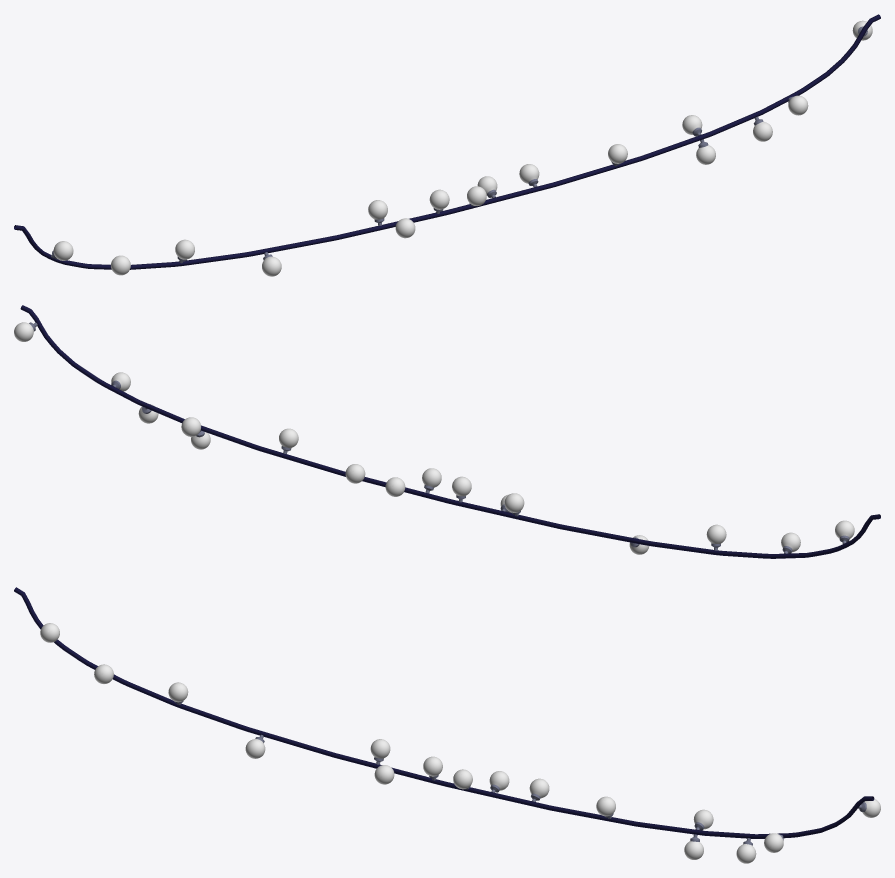
Rendered from Guirlande suspendue.fbx.
3 views of the same model, one above another, from view 1: azimuth 30°, elevation 25°; view 2: azimuth 150°, elevation 25°; view 3: azimuth 330°, elevation 25° (orthographic).
Visible parts, largest first — view 1: BézierCurve; view 2: BézierCurve; view 3: BézierCurve.
Part boxes in pixels (x1,y1,x2,y2): BézierCurve: (14,14,880,276); BézierCurve: (14,305,880,558); BézierCurve: (14,587,880,863).
Size of the model in its own units: 55.23 by 1001 by 117.
